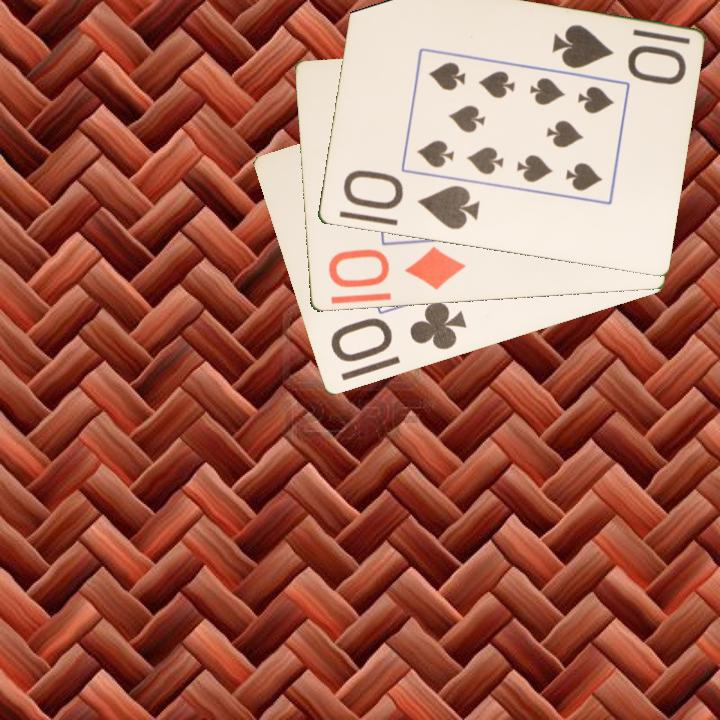10c: (326, 298, 469, 366)
10d: (324, 243, 468, 294)
10s: (339, 166, 482, 233), (547, 21, 689, 88)
